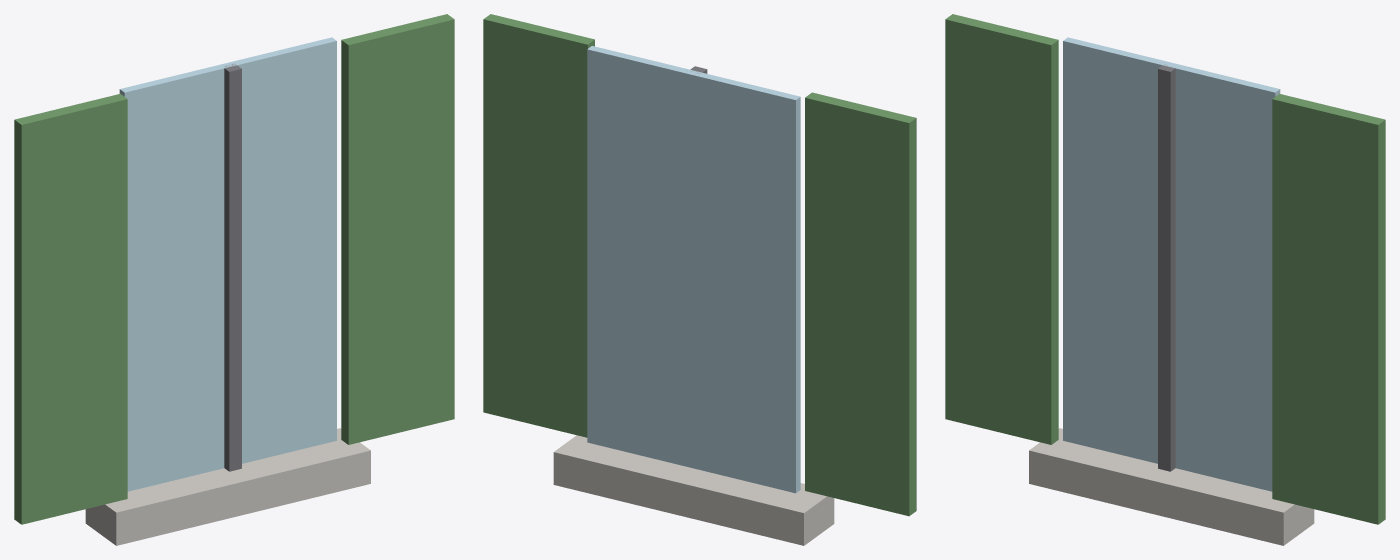
File: window_shutter.glb
3 renders of one model, left to right at view 1: azimuth 30°, elevation 25°; view 2: azimuth 150°, elevation 25°; view 3: azimuth 330°, elevation 25°, orthographic.
Visible parts, largest first — view 1: window_shutter; view 2: window_shutter; view 3: window_shutter.
Part boxes in pixels (bbox=[...]): window_shutter: bbox=[14, 14, 454, 545]; window_shutter: bbox=[483, 14, 916, 545]; window_shutter: bbox=[945, 14, 1385, 545].
Bounding box in the file's own units: 2.04 × 1.98 × 0.25.
